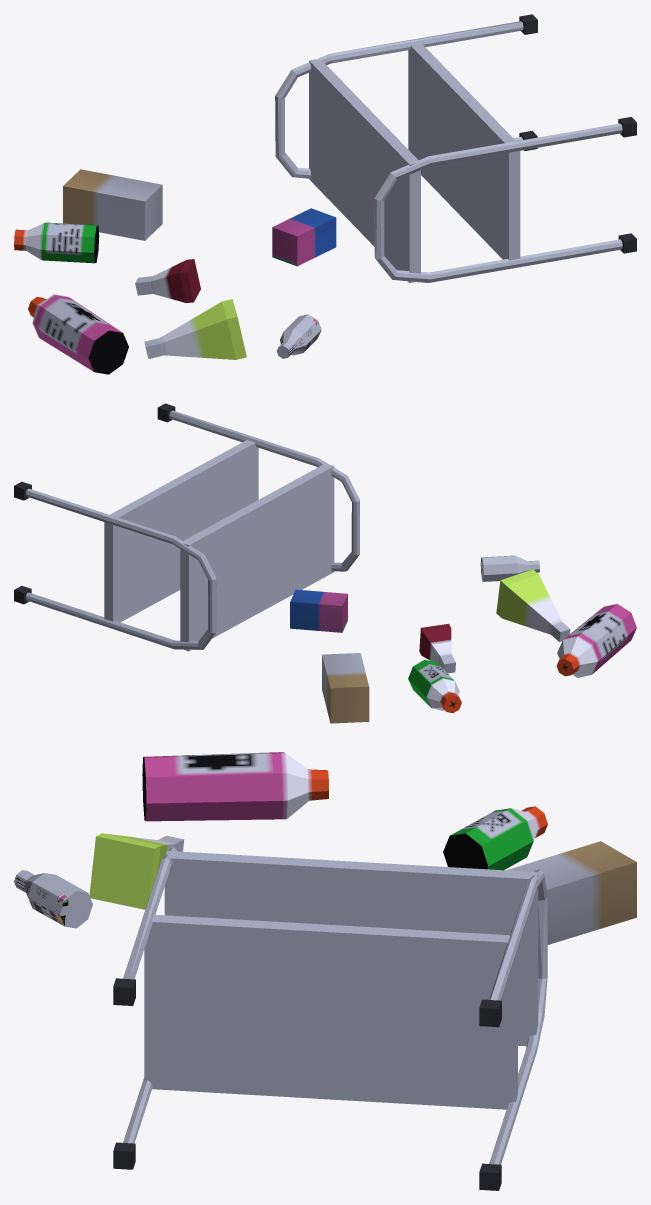
File: wheelchairDown.fbx
3 renders of one model, top to bottom at view 1: azimuth 30°, elevation 25°; view 2: azimuth 150°, elevation 25°; view 3: azimuth 270°, elevation 25°, orthographic. The views are drawn at different scales.
Visible parts, largest first — view 1: Куб.197; view 2: Куб.197; view 3: Куб.197.
Part boxes in pixels (x1,y1,x2,y2): Куб.197: (14, 14, 636, 374); Куб.197: (14, 403, 636, 723); Куб.197: (14, 752, 636, 1190).
Size of the model in its own units: 227 by 51.41 by 151.
